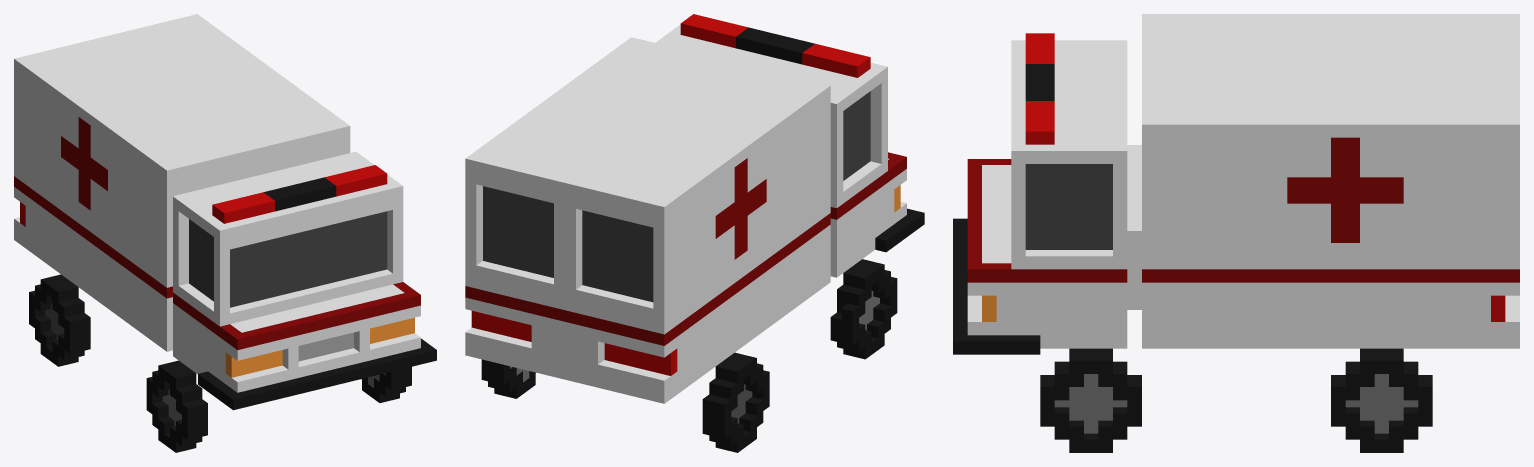
Rendered from white_truck.vox.obj.
3 views of the same model, side by side, from view 1: azimuth 30°, elevation 25°; view 2: azimuth 150°, elevation 25°; view 3: azimuth 270°, elevation 25° (orthographic). The views are drawn at different scales.
Bounding box in the file's own units: 2.2 × 2.4 × 3.9.
1 material, 1 textured.
